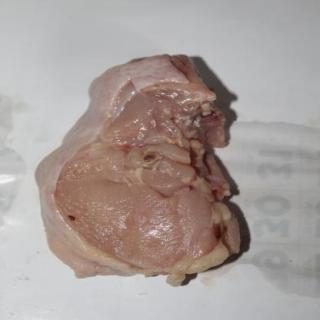Ayam: (34, 53, 241, 287)
